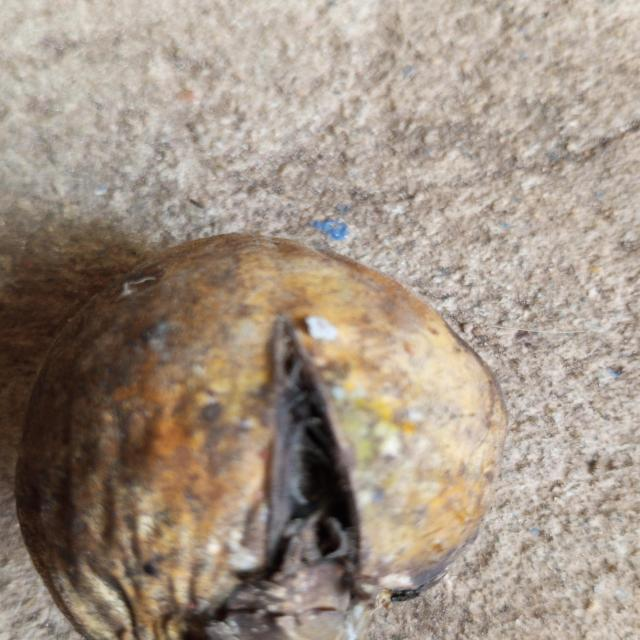damaged: (12, 233, 508, 640)
